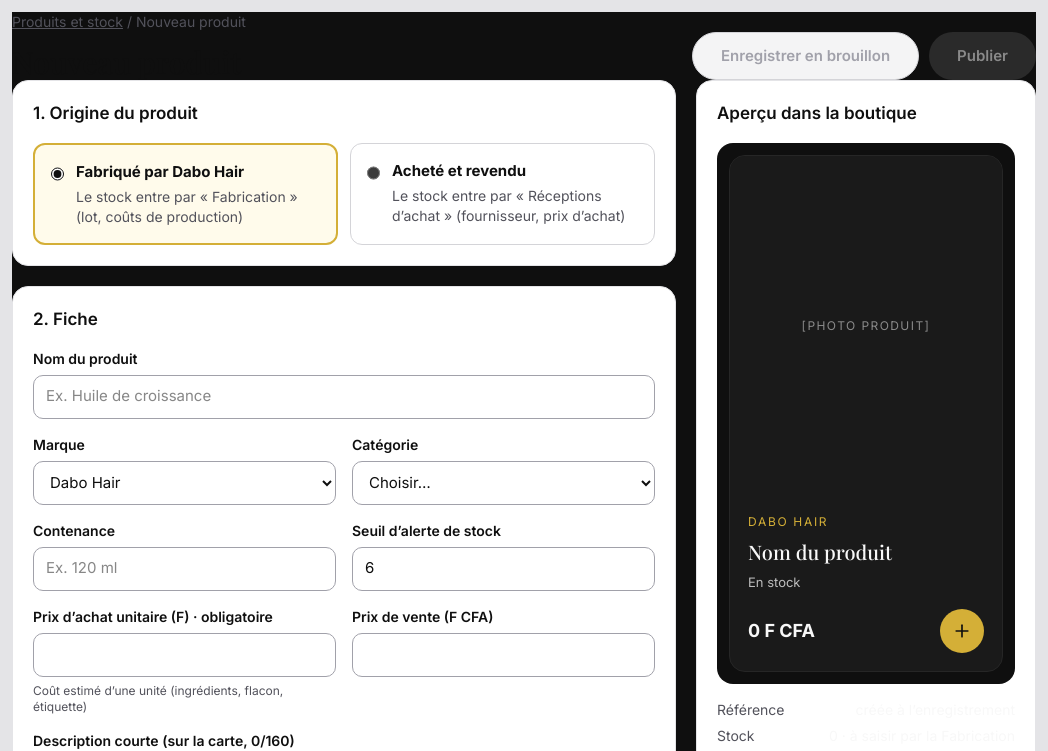
Test case: Nouveau produit › « + Nouvelle marque… » ouvre le champ de création
The image size is (1048, 751).
Select "+ Nouvelle marque…" in the dropdown labelled "Marque" at (184, 482), box [33,460,336,504]
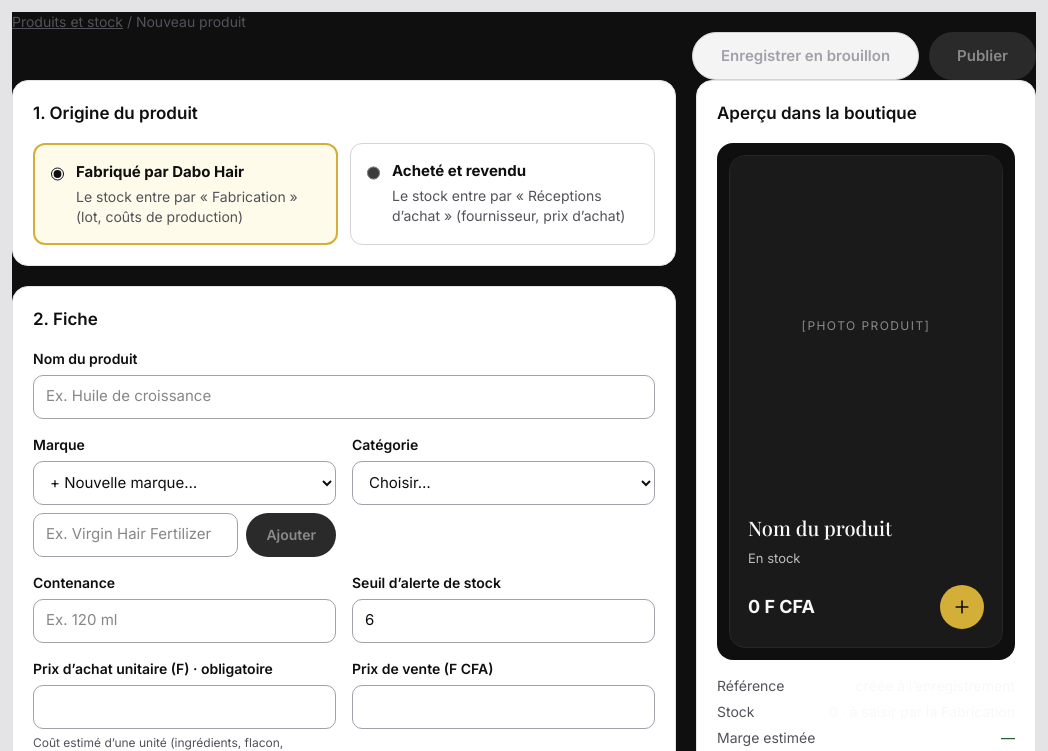
Check: the field named "Nom de la nouvelle marque" is shown, box [33,512,238,556]
Check: the button "Ajouter" is disabled, box [246,512,336,556]
